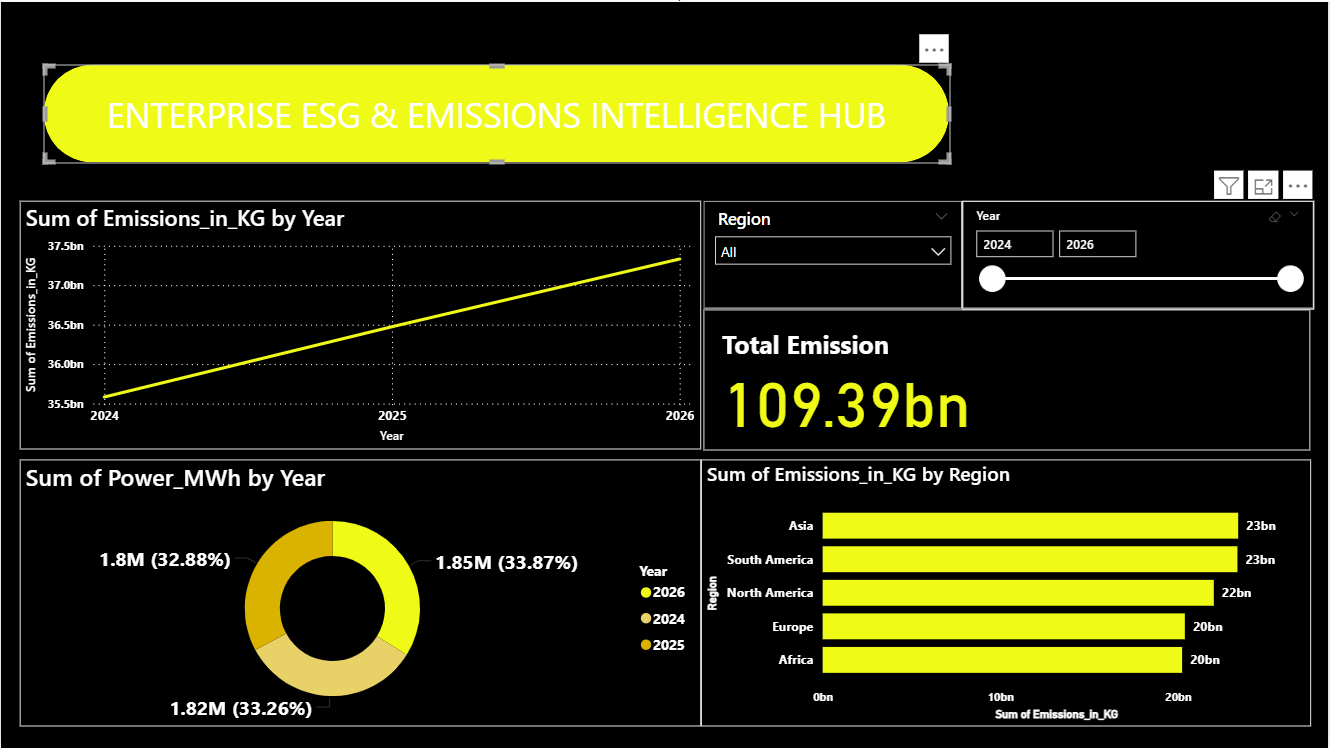

The page's visual inventory and layout, read from the dashboard file:
{"tool":"powerbi","page":{"name":"Page 1","canvas":[1280,720],"ordinal":0},"visuals":[{"type":"cardVisual","fields":{"Data":["esg_gold_final.Total Emission"]},"box":[677.9,296.4,585.9,135.8],"z":0},{"type":"barChart","fields":{"Category":["esg_gold_final.Region"],"Y":["Sum(esg_gold_final.Emissions_in_KG)"]},"box":[675.1,441.9,588.7,258],"z":1000},{"type":"donutChart","fields":{"Category":["esg_gold_final.Year"],"Y":["Sum(esg_gold_final.Power_MWh)"]},"box":[17.8,441.9,657.3,258],"z":2000},{"type":"lineChart","fields":{"Category":["esg_gold_final.Year"],"Y":["Sum(esg_gold_final.Emissions_in_KG)"]},"box":[17.8,192.1,657.3,240.1],"z":3000},{"type":"slicer","fields":{"Values":["esg_gold_final.Region"]},"box":[677.9,192.1,249.7,104.3],"z":4000},{"type":"slicer","fields":{"Values":["esg_gold_final.Year"]},"box":[927.6,192.1,338.9,104.3],"z":5000},{"type":"shape","box":[41.2,60.4,874.1,94.7],"z":6000}]}

Visuals, with their boxes in screenshot pixels (x1, y1, x2, y2), scaled from the page's 1280x720 canvas onto the 1330x748 screenshot:
cardVisual - esg_gold_final.Total Emission: box=[704, 308, 1313, 449]
barChart - esg_gold_final.Region x Sum(esg_gold_final.Emissions_in_KG): box=[701, 459, 1313, 727]
donutChart - esg_gold_final.Year x Sum(esg_gold_final.Power_MWh): box=[18, 459, 701, 727]
lineChart - esg_gold_final.Year x Sum(esg_gold_final.Emissions_in_KG): box=[18, 200, 701, 449]
slicer - esg_gold_final.Region: box=[704, 200, 964, 308]
slicer - esg_gold_final.Year: box=[964, 200, 1316, 308]
shape: box=[43, 63, 951, 161]
